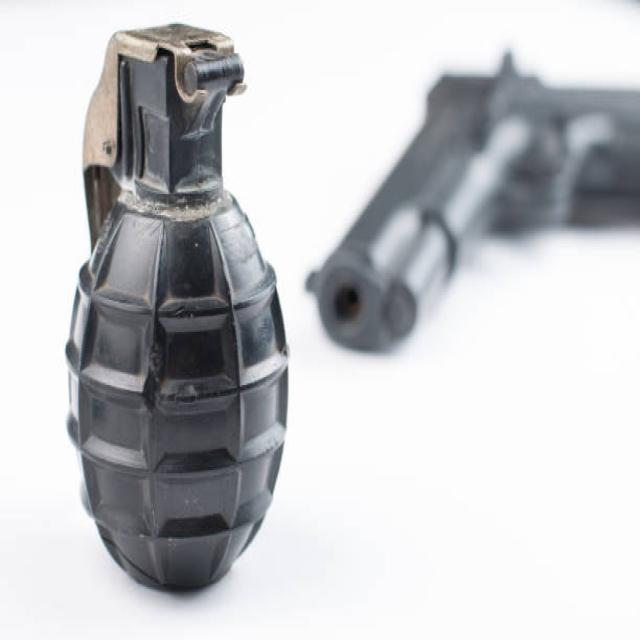grenade: (59, 27, 296, 602)
